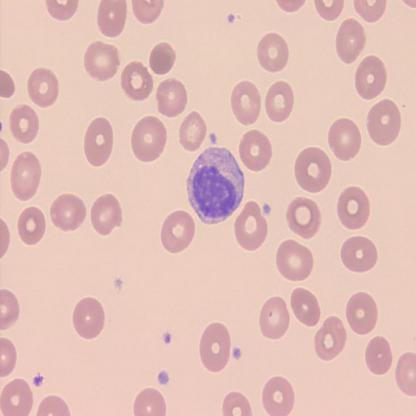Metamyelocyte: (185, 143, 246, 227)
